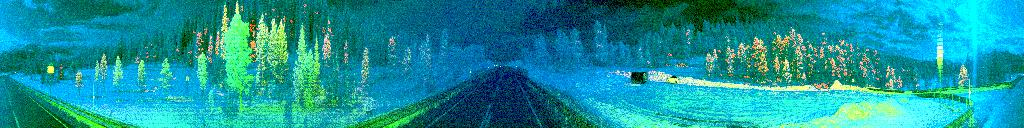pole: (967, 76, 973, 114), (91, 80, 97, 116)
